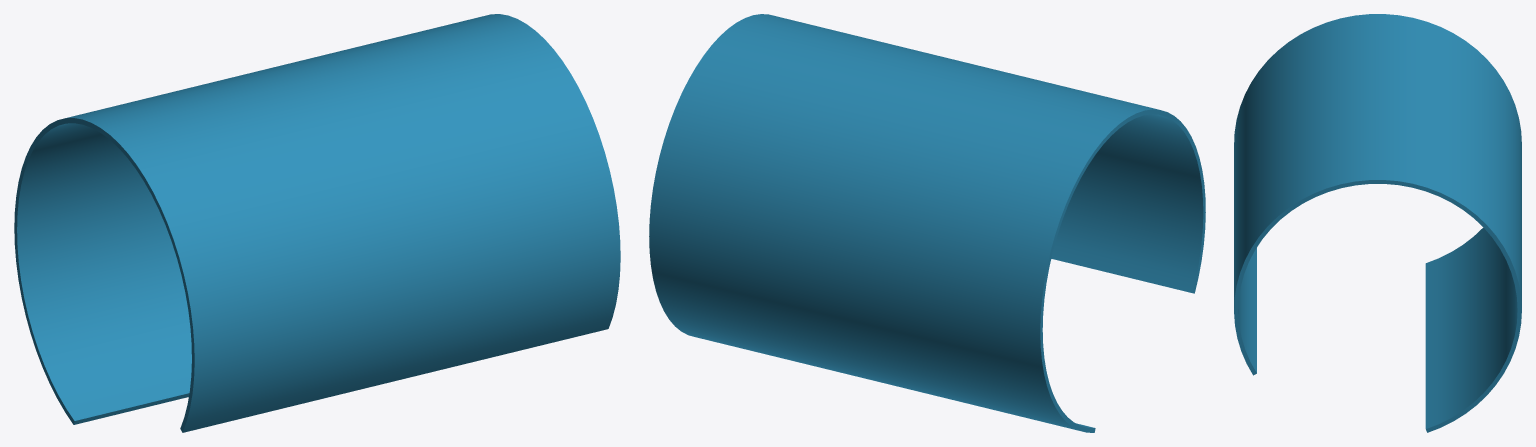
File: alumina_hydrate_filter_pressure.glb
3 renders of one model, left to right at view 1: azimuth 30°, elevation 25°; view 2: azimuth 150°, elevation 25°; view 3: azimuth 270°, elevation 25°, orthographic. The views are drawn at different scales.
Visible parts, largest first — view 1: pressure__front, pressure__back; view 2: pressure__back, pressure__front; view 3: pressure__back, pressure__front.
Part boxes in pixels (<box>): pressure__front: <box>104,27,620,432</box>; pressure__back: <box>14,14,529,424</box>; pressure__back: <box>649,26,1122,432</box>; pressure__front: <box>732,14,1205,293</box>; pressure__back: <box>1378,14,1521,432</box>; pressure__front: <box>1234,14,1377,375</box>.
Bounding box in the file's own units: 1.8 × 1.28 × 1.32.
